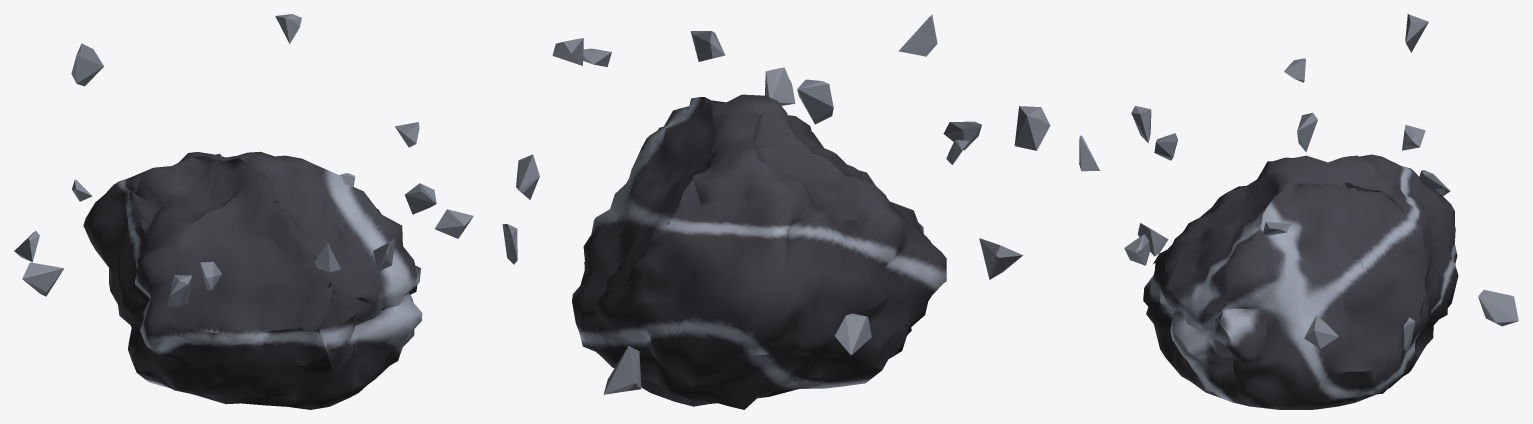
The model's file is roca_magnetica.fbx.
3 renders of one model, left to right at view 1: azimuth 30°, elevation 25°; view 2: azimuth 150°, elevation 25°; view 3: azimuth 270°, elevation 25°, orthographic. The views are drawn at different scales.
Visible parts, largest first — view 1: roca_magnetica, roca_magnetica_orbita; view 2: roca_magnetica, roca_magnetica_orbita; view 3: roca_magnetica, roca_magnetica_orbita.
Part boxes in pixels (x1=…): roca_magnetica: x1=83, y1=151, x2=422, y2=409; roca_magnetica_orbita: x1=14, y1=14, x2=473, y2=307; roca_magnetica: x1=572, y1=94, x2=946, y2=409; roca_magnetica_orbita: x1=502, y1=14, x2=1050, y2=394; roca_magnetica: x1=1143, y1=154, x2=1458, y2=409; roca_magnetica_orbita: x1=1079, y1=14, x2=1518, y2=350.
Bounding box in the file's own units: 3.46 × 2.35 × 3.25.
2 materials, 2 textured.
